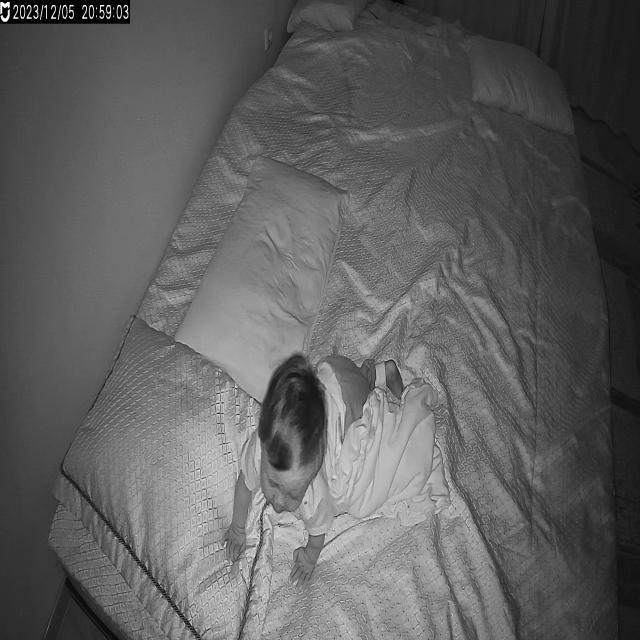baby: (222, 343, 408, 578)
